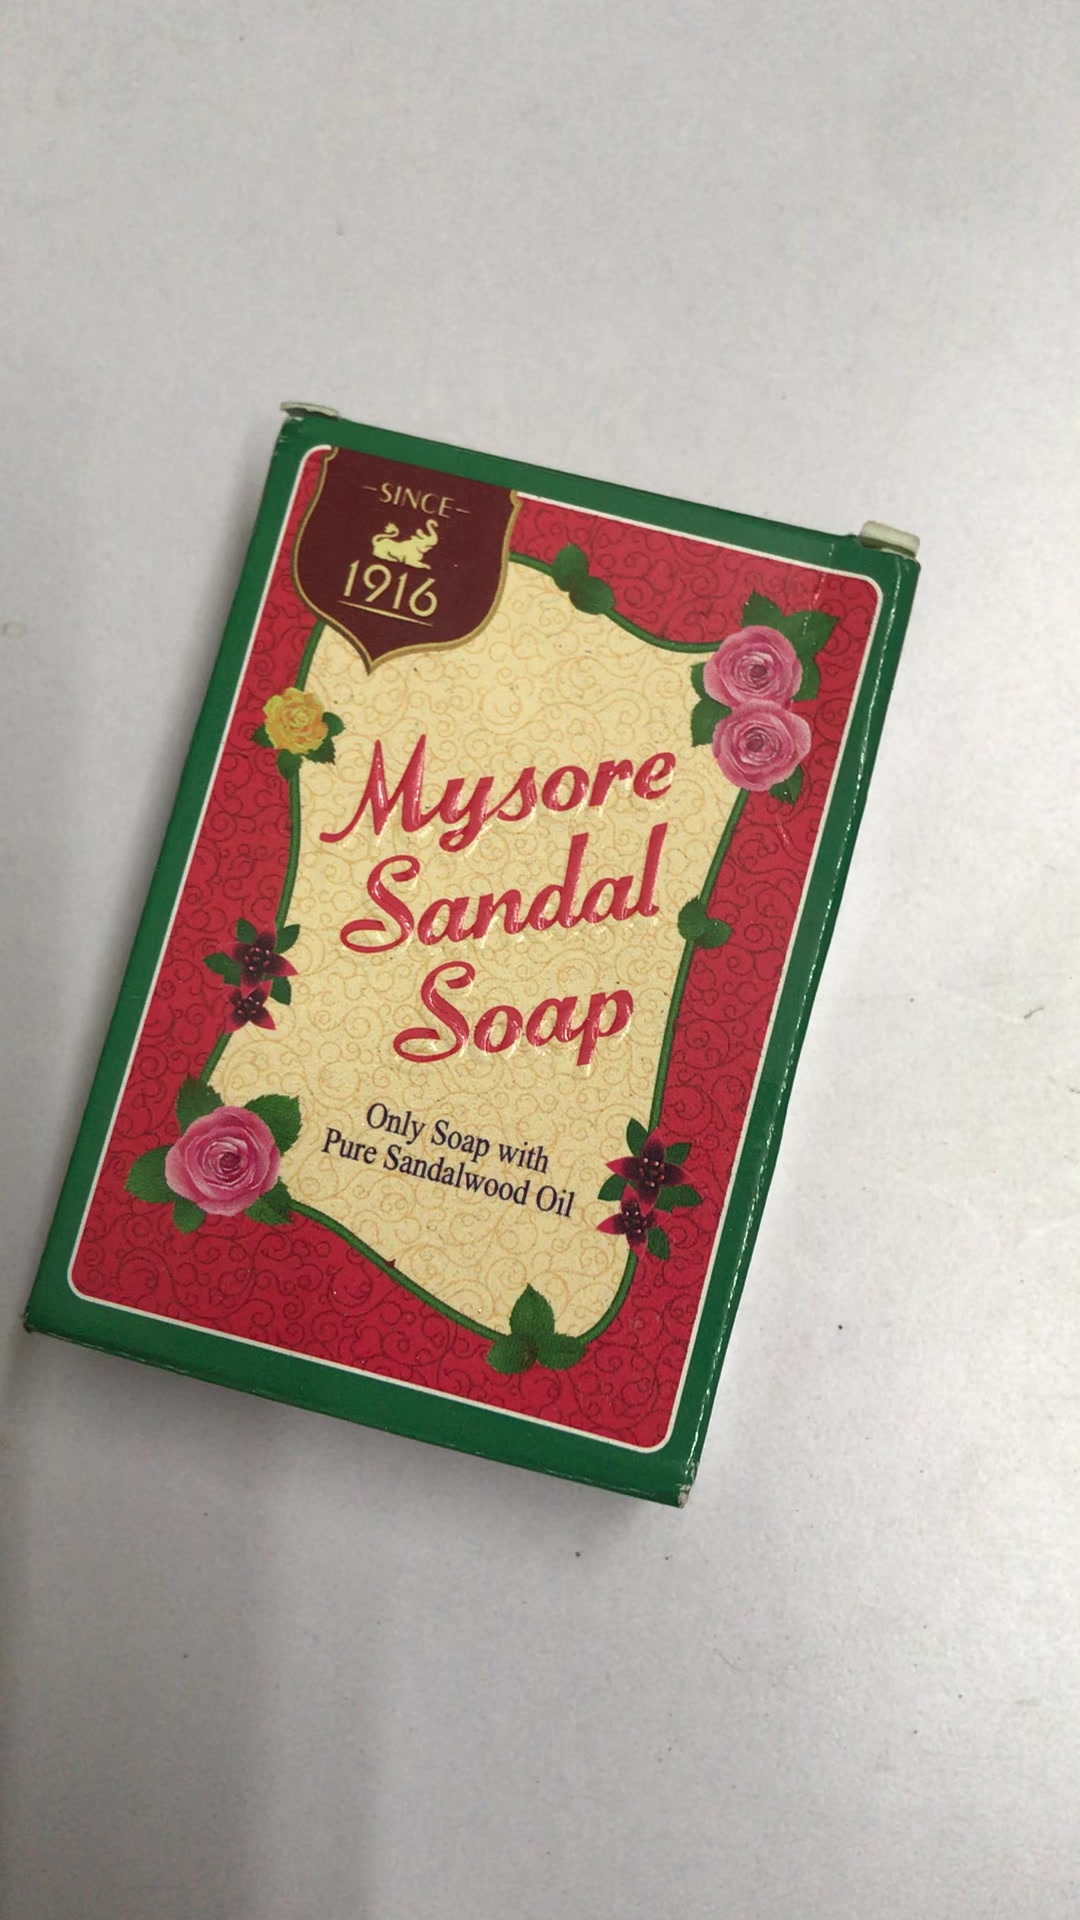mysore sandal soap: (20, 413, 934, 1515)
